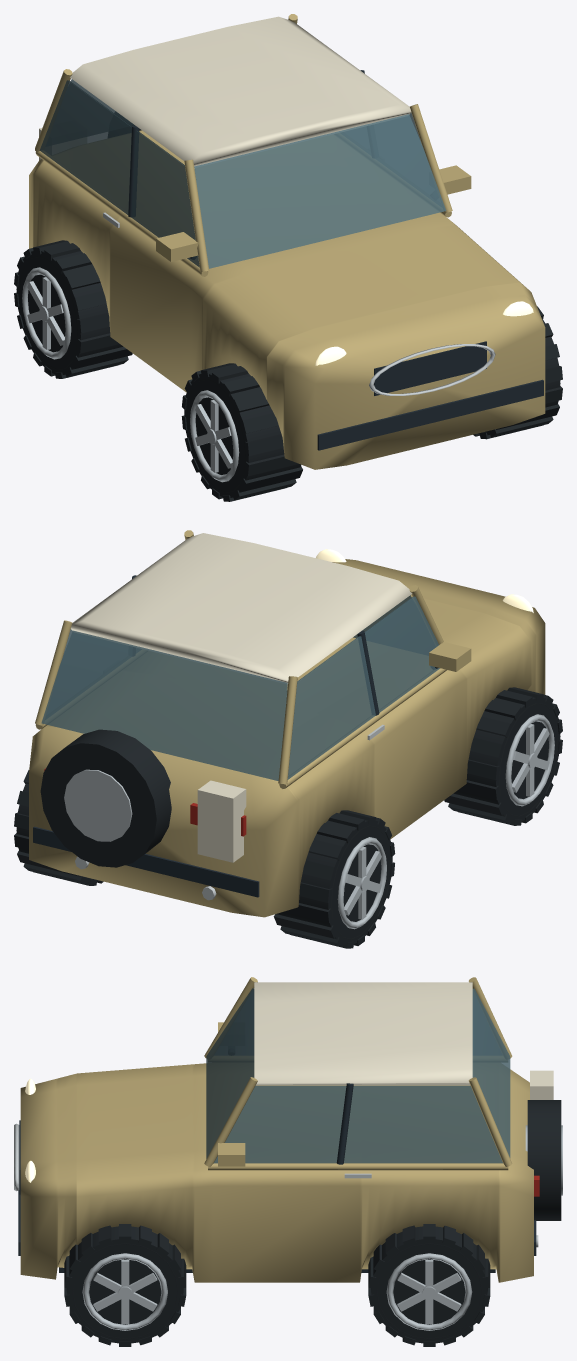
Rendered from trailmaster.glb.
The picture shows the model from 3 angles, top to bottom: view 1: azimuth 30°, elevation 25°; view 2: azimuth 150°, elevation 25°; view 3: azimuth 270°, elevation 25°; orthographic projection. The views are drawn at different scales.
Visible parts, largest first — view 1: exterior-paint, windows, secondary-paint, tire-front-left, tire-rear-left, black-trim, rim-rear-left, rim-front-left, tire-front-right, chrome, headlights; view 2: exterior-paint, windows, secondary-paint, rubber, tire-rear-left, tire-front-left, rims, black-trim, rim-front-left, rim-rear-left, tire-rear-right, headlights; view 3: exterior-paint, windows, secondary-paint, tire-front-right, tire-rear-right, rubber, rim-rear-right, rim-front-right, black-trim, chrome.
Part boxes in pixels (<box>): exterior-paint: <box>29,14,545,469</box>; windows: <box>39,79,446,268</box>; secondary-paint: <box>39,16,411,166</box>; tire-front-left: <box>181,363,302,501</box>; tire-rear-left: <box>14,240,132,378</box>; black-trim: <box>128,70,543,450</box>; rim-rear-left: <box>22,267,71,359</box>; rim-front-left: <box>190,390,239,482</box>; tire-front-right: <box>473,306,562,439</box>; chrome: <box>103,212,495,395</box>; headlights: <box>315,301,533,365</box>; exterior-paint: <box>29,530,545,917</box>; windows: <box>41,595,439,780</box>; secondary-paint: <box>71,533,412,862</box>; rubber: <box>40,729,171,867</box>; tire-rear-left: <box>273,810,395,948</box>; tire-front-left: <box>444,687,562,825</box>; rims: <box>64,769,132,841</box>; black-trim: <box>33,575,438,897</box>; rim-front-left: <box>505,714,554,806</box>; rim-rear-left: <box>337,837,386,929</box>; tire-rear-right: <box>14,770,103,885</box>; headlights: <box>316,549,533,612</box>; exterior-paint: <box>20,977,533,1282</box>; windows: <box>206,988,510,1163</box>; secondary-paint: <box>254,982,553,1099</box>; tire-front-right: <box>64,1224,186,1346</box>; tire-rear-right: <box>368,1224,490,1346</box>; rubber: <box>527,1100,561,1220</box>; rim-rear-right: <box>386,1253,472,1330</box>; rim-front-right: <box>82,1253,167,1330</box>; black-trim: <box>18,1050,536,1272</box>; chrome: <box>14,1123,538,1247</box>.
Size of the model in its own units: 2 by 1.66 by 3.25.
